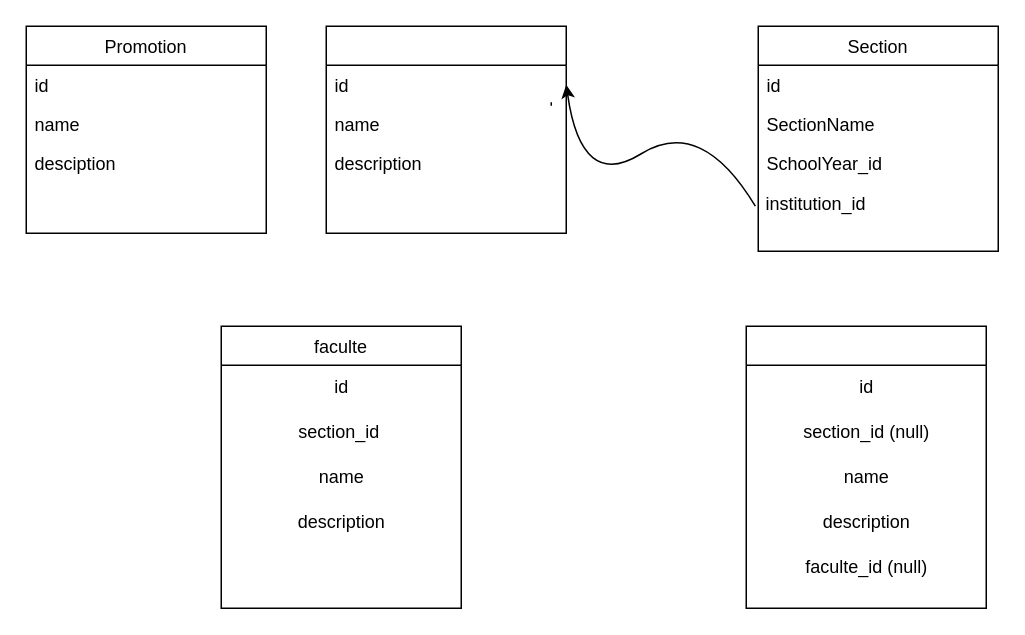
This 1025x635 diagram has some shape labels left out. The shapes that lost their labels are listed below. From the top down, each one's box as (x1, y1, x2, y2) in pixels, then its label:
(325, 25, 566, 233): Institution
(745, 325, 986, 608): option
